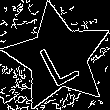L_NW: (32, 28, 84, 87)
